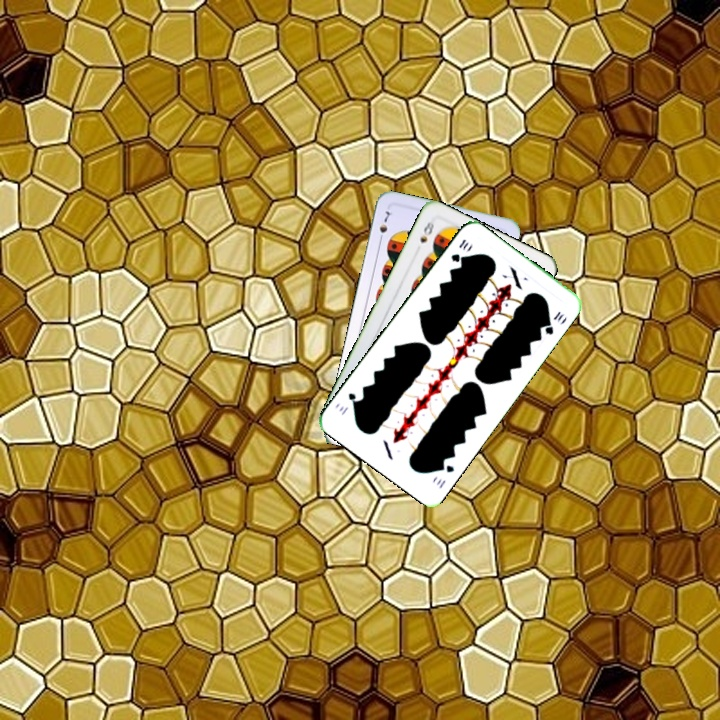G10: (432, 459, 457, 491), (447, 235, 472, 265)
S7: (375, 207, 395, 245)
S8: (416, 214, 436, 245)
